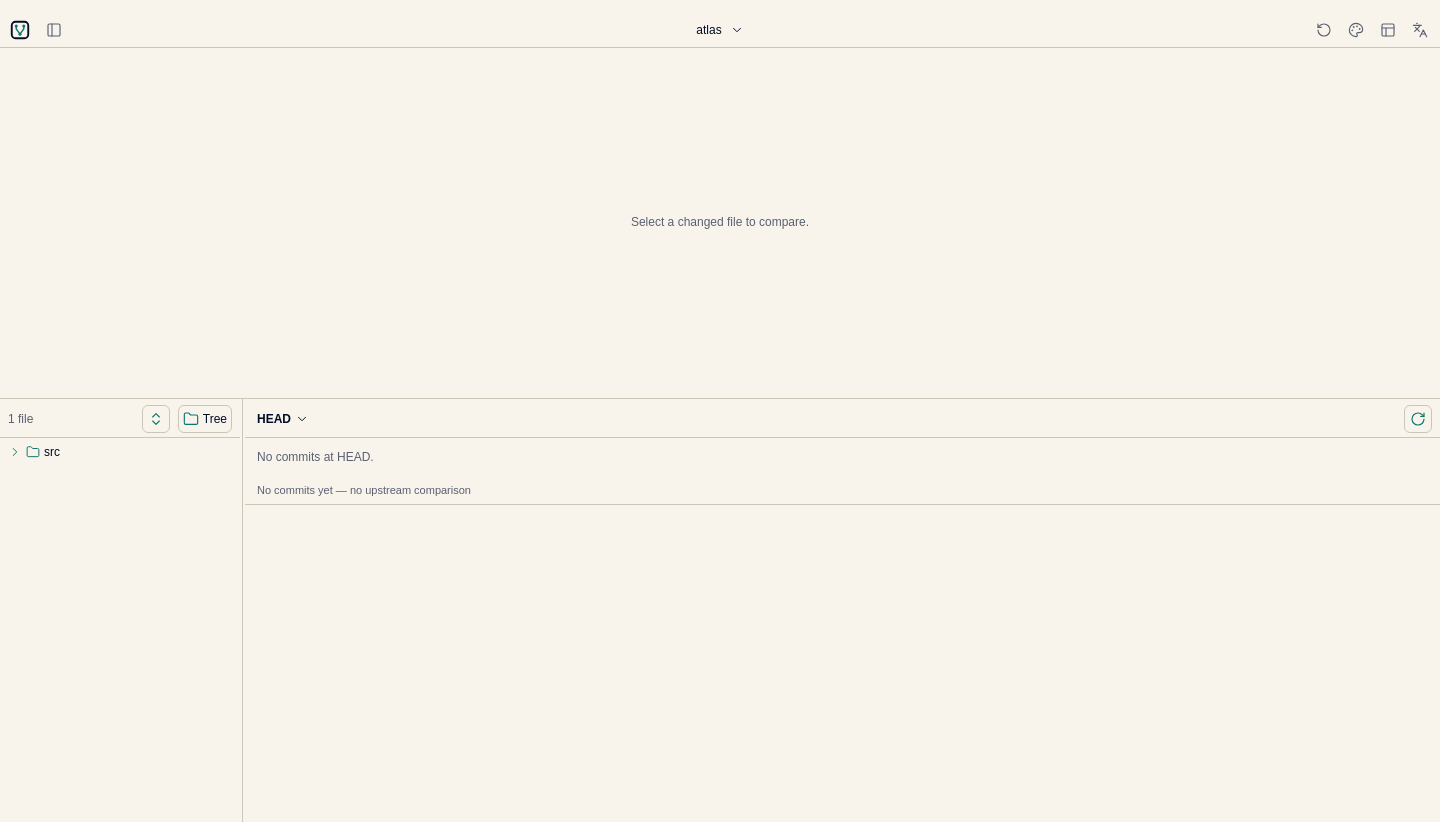
Test: reset reopens the files sidebar without clearing its selected preview
Click the button named "Expand sidebar" at (54, 30), box top-left (40, 16), bottom-right (68, 44)
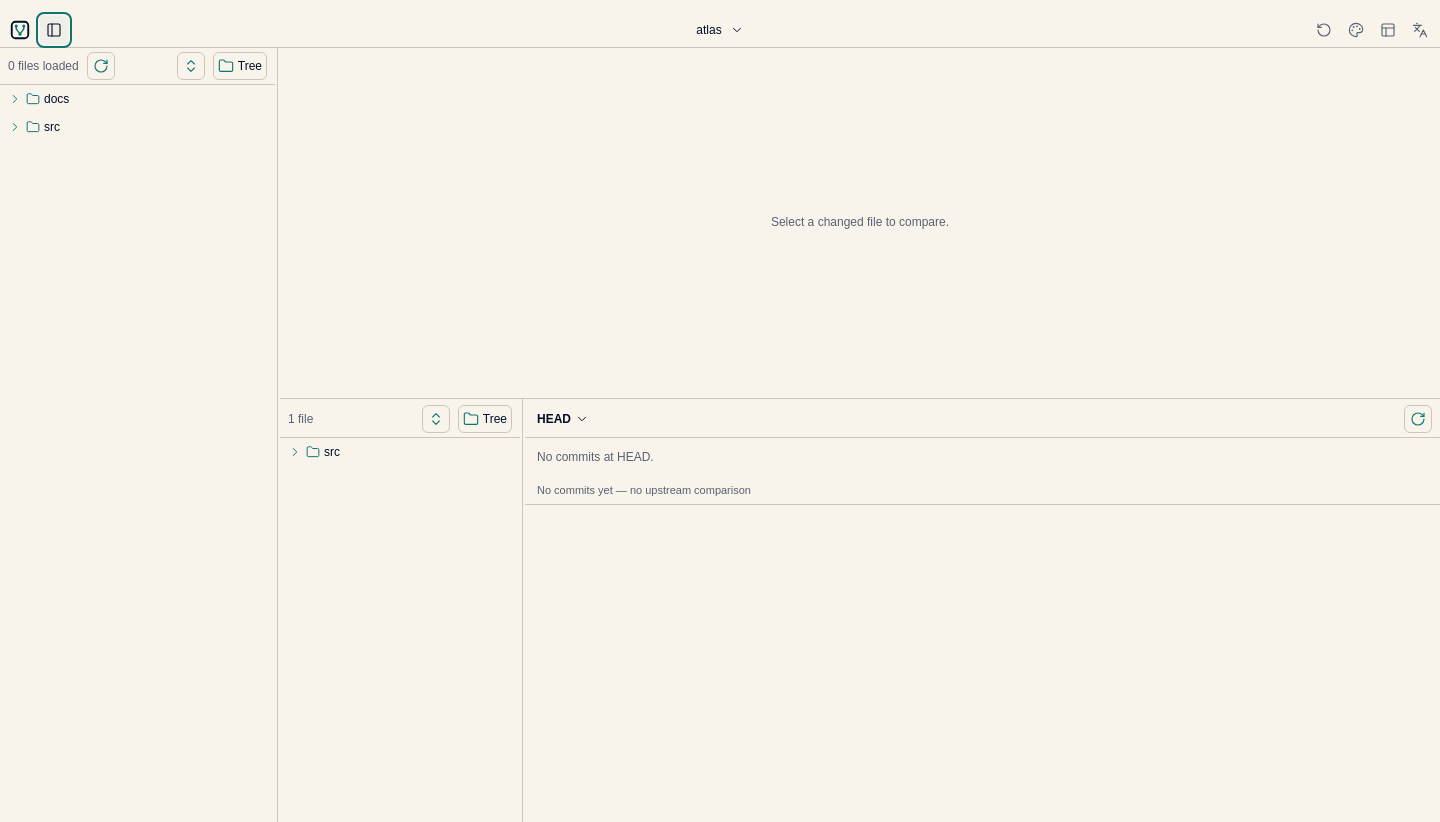
expect the button with aria-label "Expand docs" is shown: met, box top-left (4, 85), bottom-right (271, 113)
Click the button named "Expand all" next to "0 files loaded" at (191, 66), box top-left (177, 52), bottom-right (205, 80)
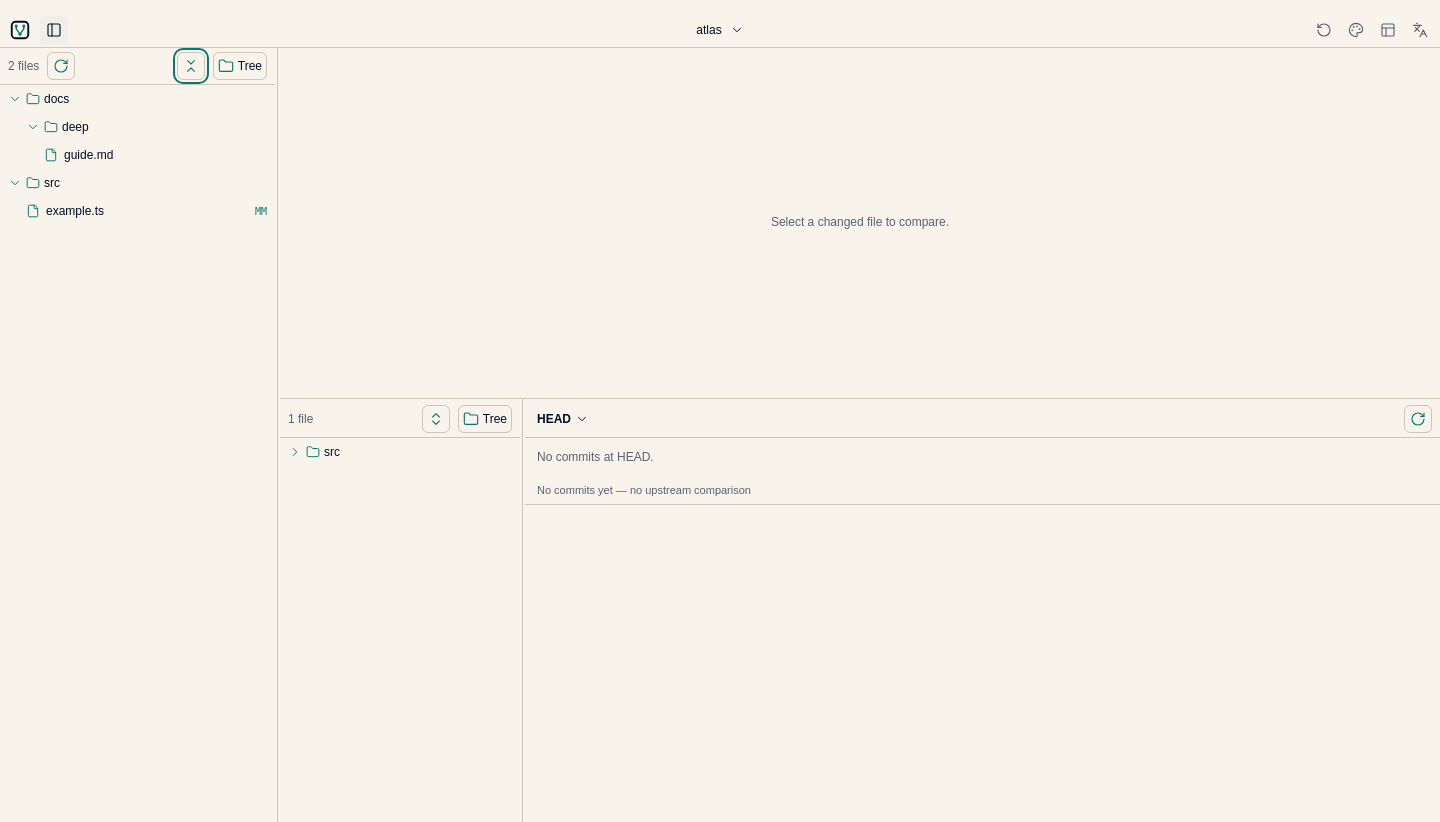
expect the button with aria-label "Review docs/deep/guide.md" is shown: met
Click the button with aria-label "Review docs/deep/guide.md" at (156, 155), box top-left (40, 141), bottom-right (271, 169)
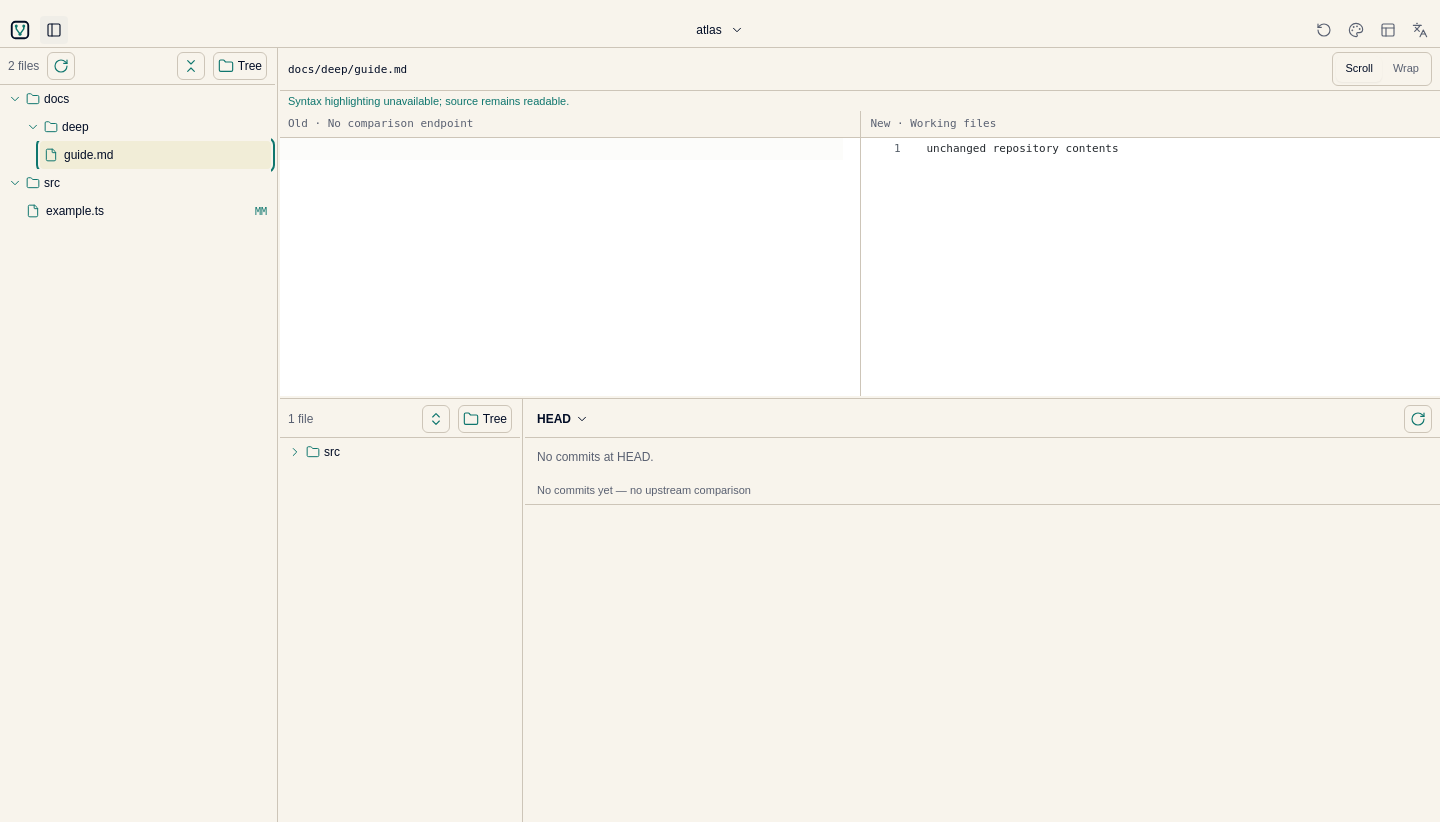
Click the button named "Collapse sidebar" at (54, 30), box top-left (40, 16), bottom-right (68, 44)
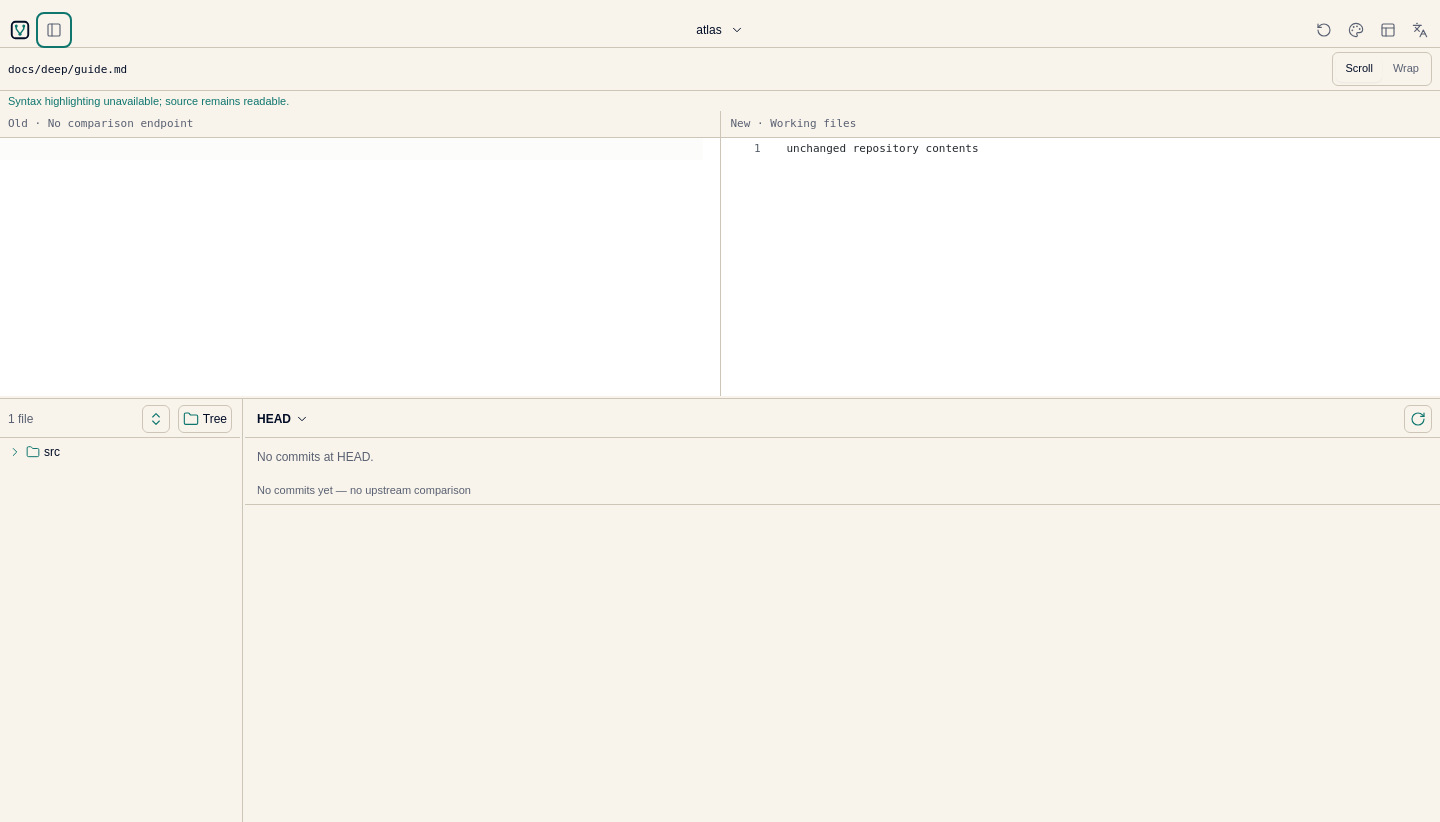
Click the button named "Reset layout" at (1324, 30), box top-left (1308, 14), bottom-right (1340, 46)
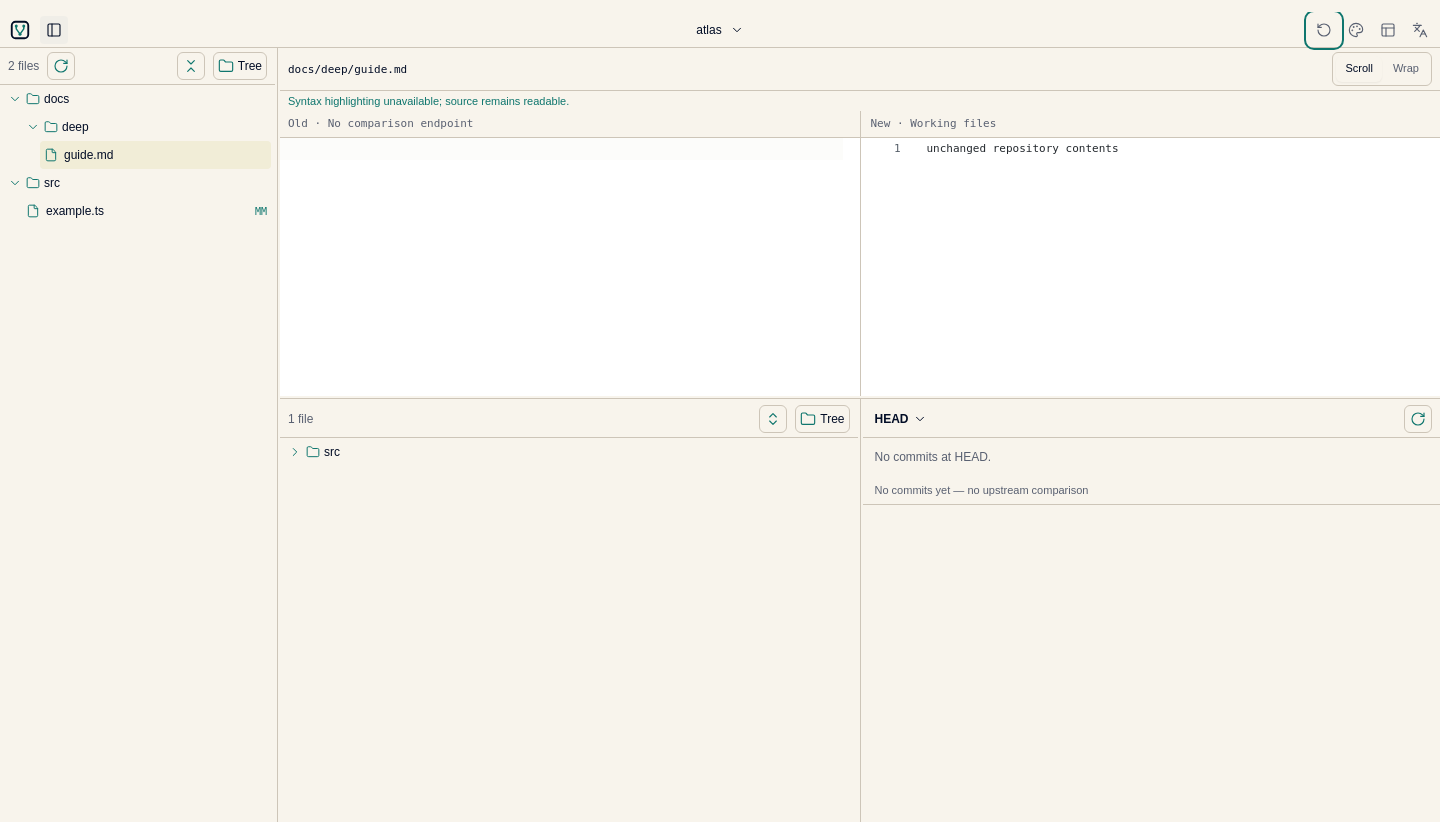
expect the element named "Workspace sidebar" is shown: met, box top-left (0, 48), bottom-right (280, 821)
expect the button named "Collapse sidebar" is expanded: met, box top-left (40, 16), bottom-right (68, 44)
